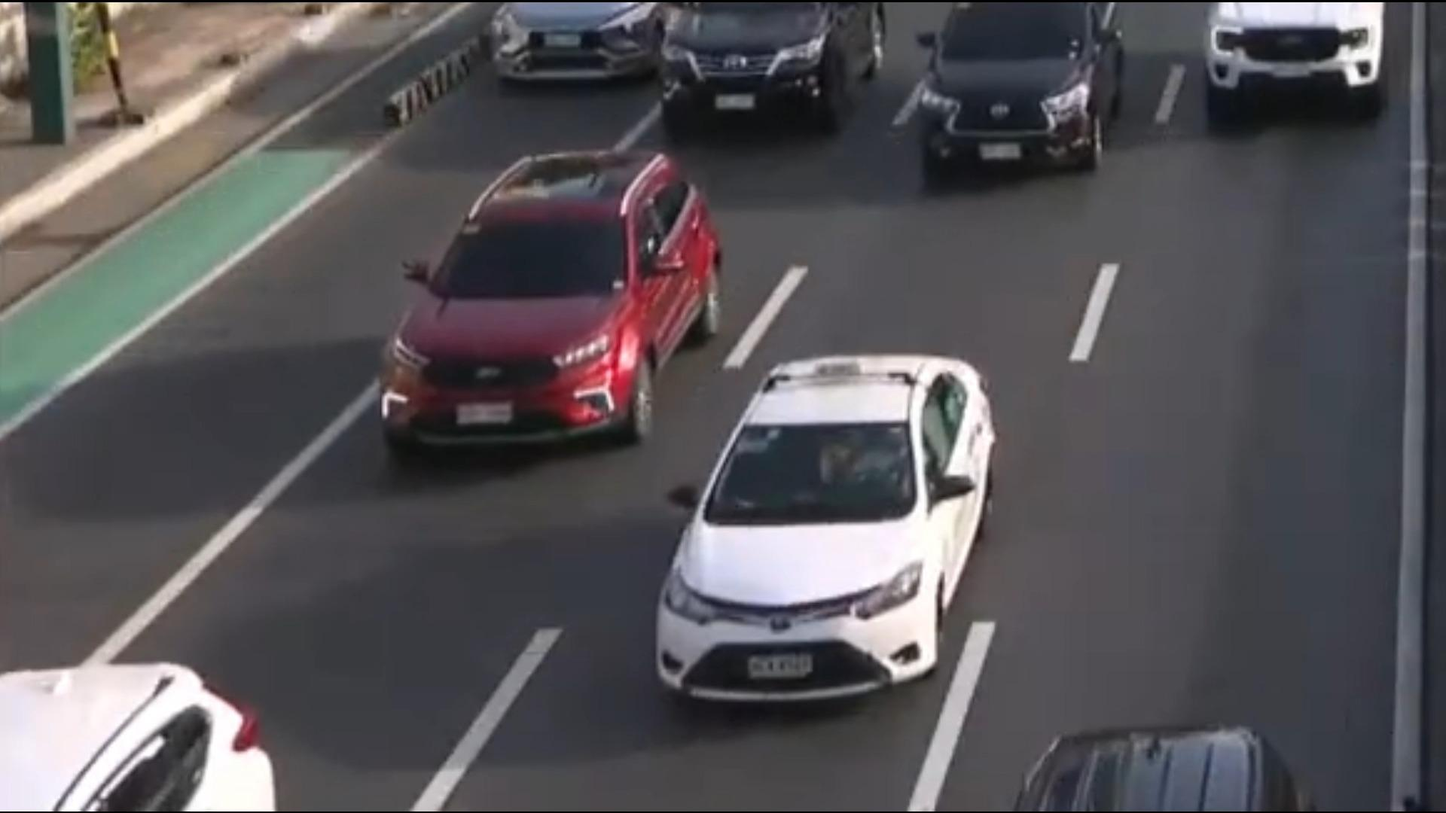SUV: (330, 126, 737, 468), (879, 0, 1158, 208)
Sedan: (563, 350, 1060, 728)
